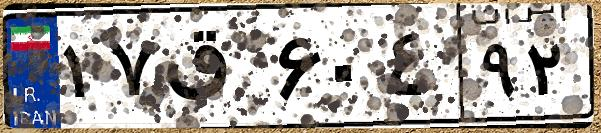0: (330, 28, 385, 110)
1: (57, 26, 110, 100)
2: (525, 38, 570, 115)
4: (385, 28, 445, 110)
6: (270, 28, 330, 110)
7: (110, 28, 158, 98)
9: (475, 38, 525, 113)
ق: (158, 20, 270, 120)
